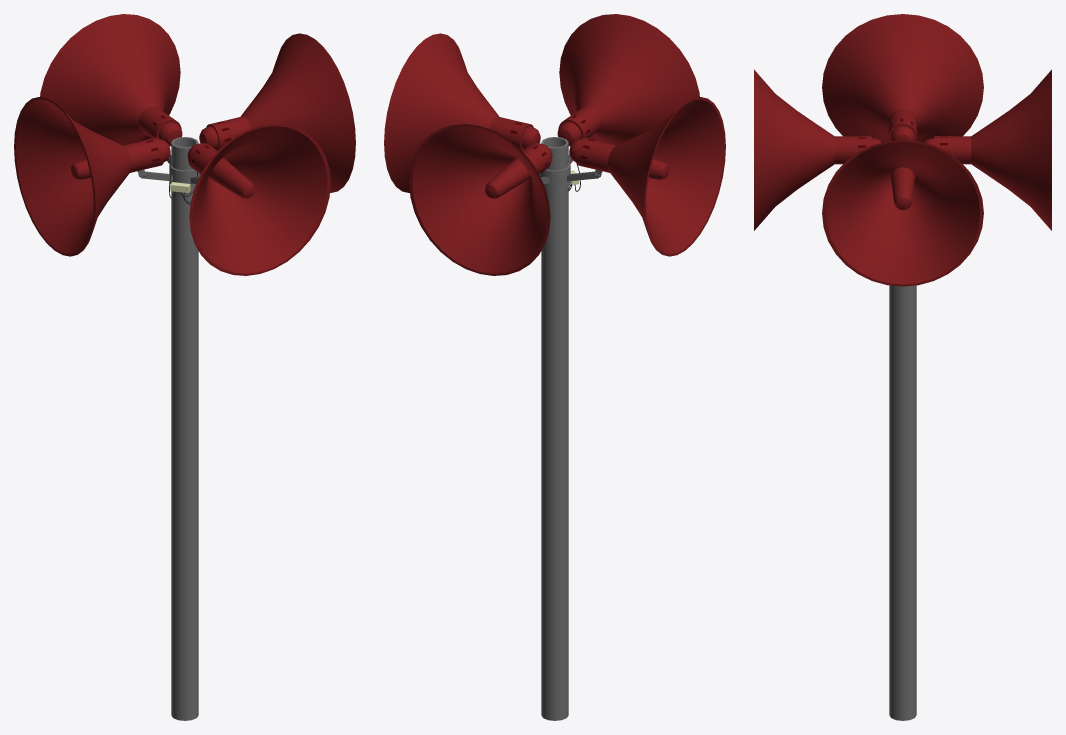
The model's file is LoudSpeakerSystem.fbx.
3 views of the same model, side by side, from view 1: azimuth 30°, elevation 25°; view 2: azimuth 150°, elevation 25°; view 3: azimuth 270°, elevation 25° (orthographic).
Visible parts, largest first — view 1: LoudSoundSystem; view 2: LoudSoundSystem; view 3: LoudSoundSystem.
Part boxes in pixels (x1,y1,x2,y2): LoudSoundSystem: [14, 14, 355, 720]; LoudSoundSystem: [384, 14, 725, 720]; LoudSoundSystem: [754, 14, 1051, 720].
Size of the model in its own units: 660 by 1562 by 660.
